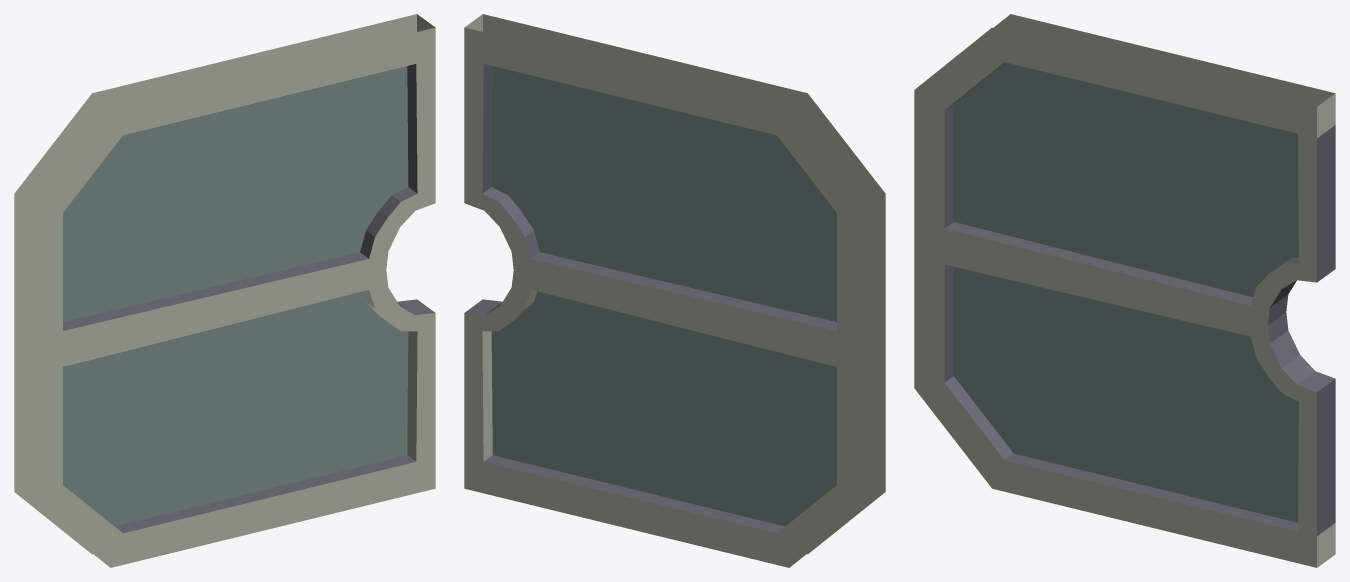
Rendered from doorpartleft.fbx.
3 views of the same model, side by side, from view 1: azimuth 30°, elevation 25°; view 2: azimuth 150°, elevation 25°; view 3: azimuth 330°, elevation 25° (orthographic).
Visible parts, largest first — view 1: Cube.103; view 2: Cube.103; view 3: Cube.103.
Part boxes in pixels (x1,y1,x2,y2): Cube.103: (14, 14, 435, 567); Cube.103: (464, 14, 885, 567); Cube.103: (914, 14, 1335, 567).
Size of the model in its own units: 295 by 323 by 23.46.
